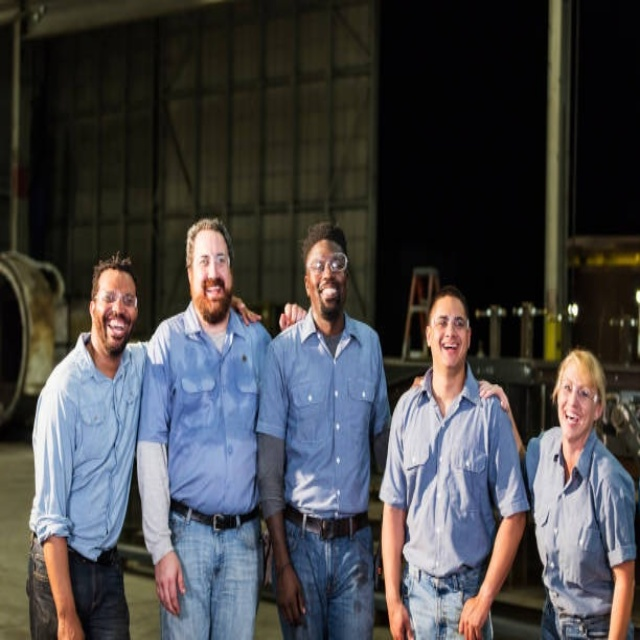Gafas: (184, 249, 231, 270), (559, 380, 600, 403), (307, 254, 349, 276), (94, 290, 138, 309), (430, 315, 470, 330)
Sin_guantes: (153, 544, 188, 613), (277, 563, 311, 627), (455, 593, 488, 637), (388, 599, 417, 638)
Sin_mascara: (562, 406, 584, 438), (200, 281, 224, 304), (317, 282, 337, 306), (440, 337, 460, 361), (105, 317, 124, 340)
